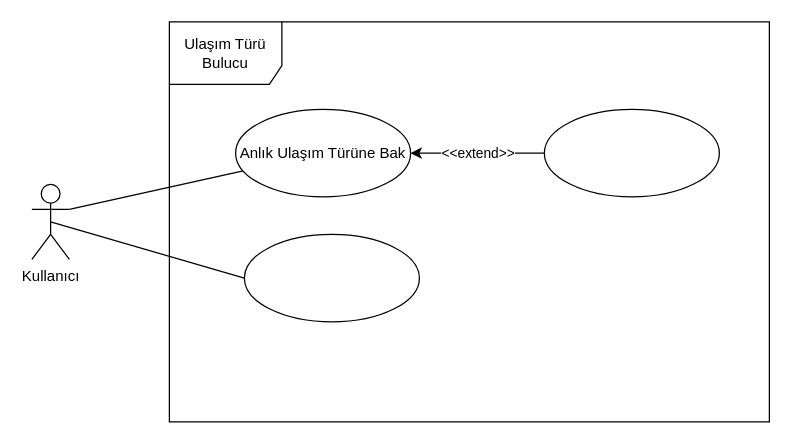
Image size: 791x444. Some labels were removed from this diagram. Each missing label, with the box of its shape:
Ulaşım Türü Geçmişine Bak: (243, 233, 419, 322)
Ulaşım Türünü Kaydet: (543, 108, 719, 197)
